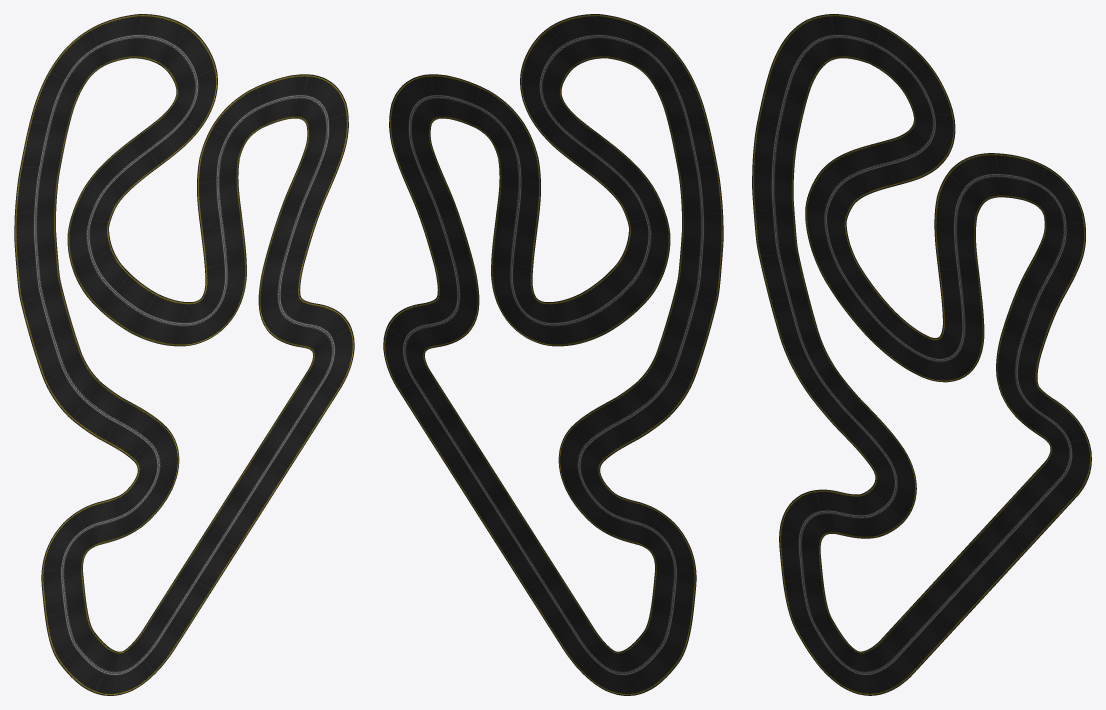
Rendered from Road.fbx.
3 views of the same model, side by side, from view 1: azimuth 30°, elevation 25°; view 2: azimuth 150°, elevation 25°; view 3: azimuth 330°, elevation 25° (orthographic).
Visible parts, largest first — view 1: Road001; view 2: Road001; view 3: Road001.
Boxes of the visible parts, x1,y1,x2,y2 form: Road001: (14,14,354,695); Road001: (383,14,723,695); Road001: (752,14,1091,695).
Bounding box in the file's own units: 5285 × 10061 × 0.000975.
1 material, 1 textured.
